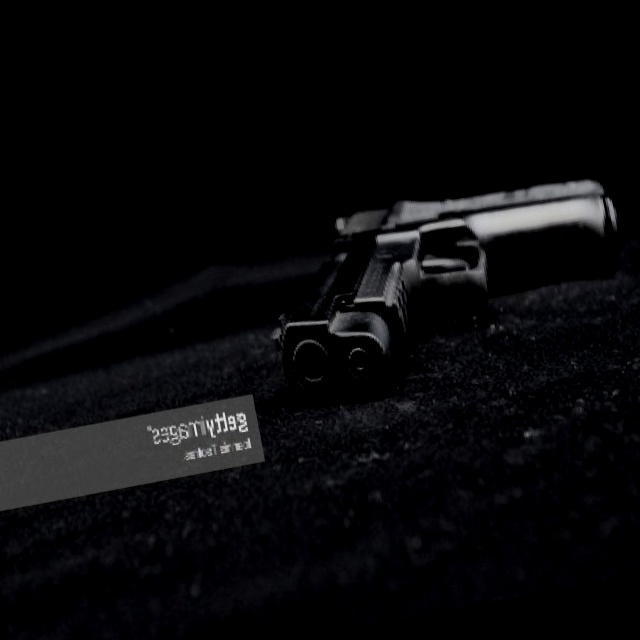gun: (254, 156, 640, 405)
